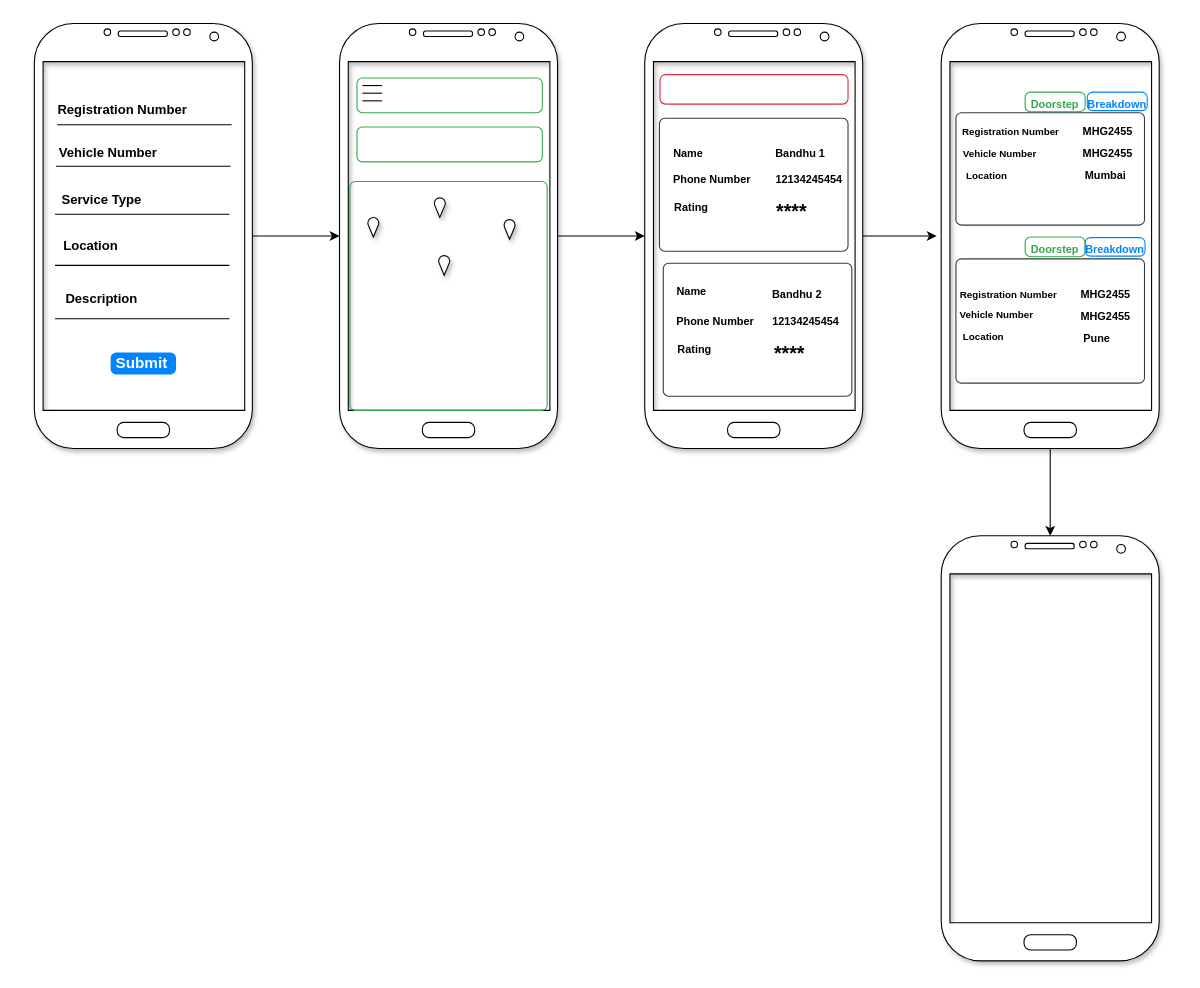
The diagram is 1200 pixels wide and 988 high, and some of its shapes have lost their labels. Each missing label, with the centre of its shape:
"Bandhu Guru's" goes at point (753, 89).
"Search Bandhu" goes at point (449, 144).
"Your Location" goes at point (449, 95).
